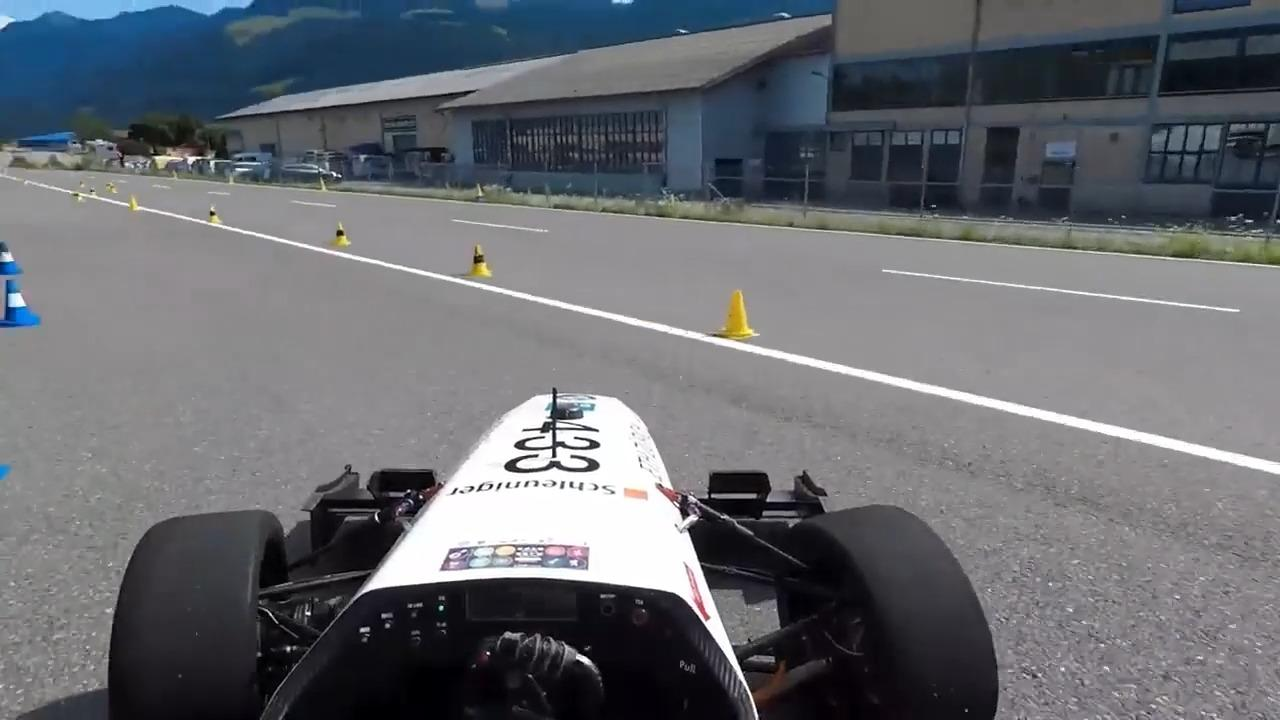blue_cone: (9, 267, 43, 323)
yellow_cone: (713, 273, 757, 350), (461, 237, 500, 271), (329, 215, 359, 252), (213, 195, 236, 233)
